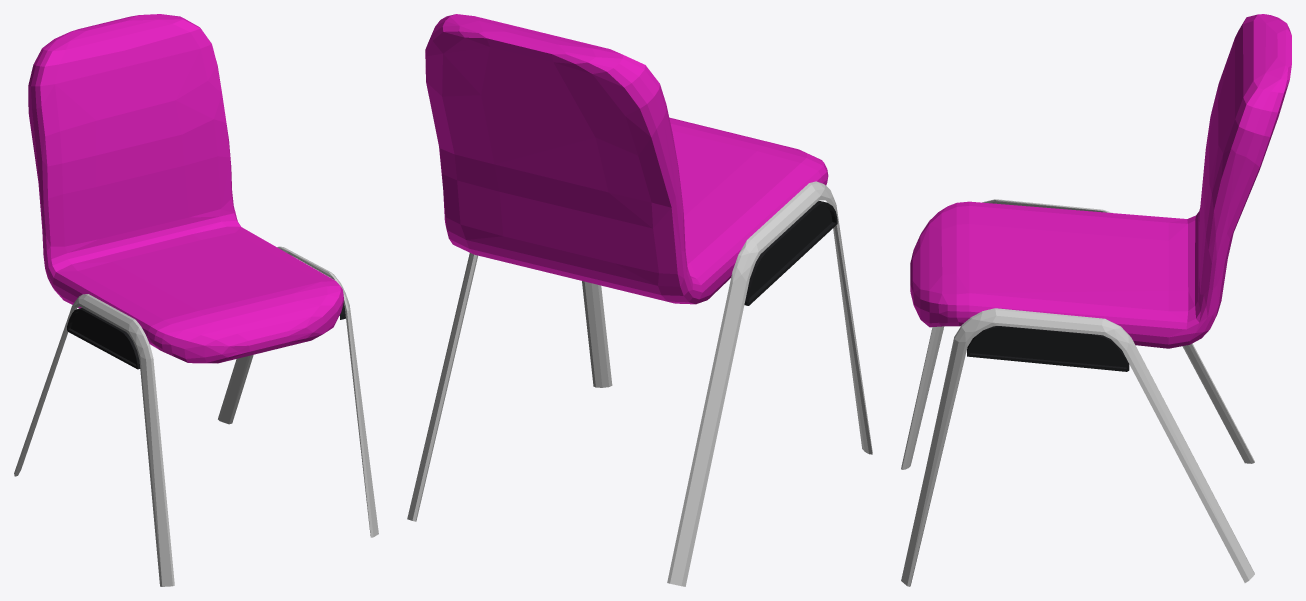
Rendered from chair-pink.obj.
3 views of the same model, side by side, from view 1: azimuth 30°, elevation 25°; view 2: azimuth 150°, elevation 25°; view 3: azimuth 270°, elevation 25° (orthographic). The views are drawn at different scales.
Parts seen in each view (by area): view 1: Chair_001, Chair_001.002, Chair_001.001; view 2: Chair_001, Chair_001.002, Chair_001.001; view 3: Chair_001, Chair_001.002, Chair_001.001.
Part boxes in pixels (box(x1,y1,x2,y2)): Chair_001: box(28, 14, 343, 363); Chair_001.002: box(14, 246, 378, 586); Chair_001.001: box(67, 303, 345, 369); Chair_001: box(425, 14, 828, 304); Chair_001.002: box(407, 181, 872, 586); Chair_001.001: box(744, 201, 837, 305); Chair_001: box(910, 14, 1291, 348); Chair_001.002: box(901, 199, 1254, 586); Chair_001.001: box(967, 326, 1129, 371).
Bounding box in the file's own units: 0.5581 × 1.02 × 0.7528.
